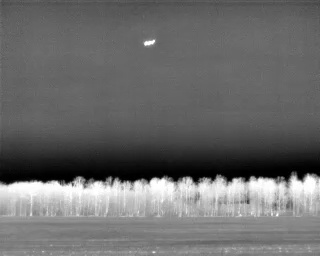DRONE: (140, 35, 160, 50)
